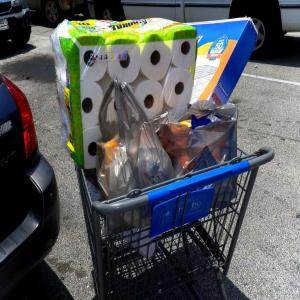Vehicle-registration-plate: (1, 19, 9, 33)
